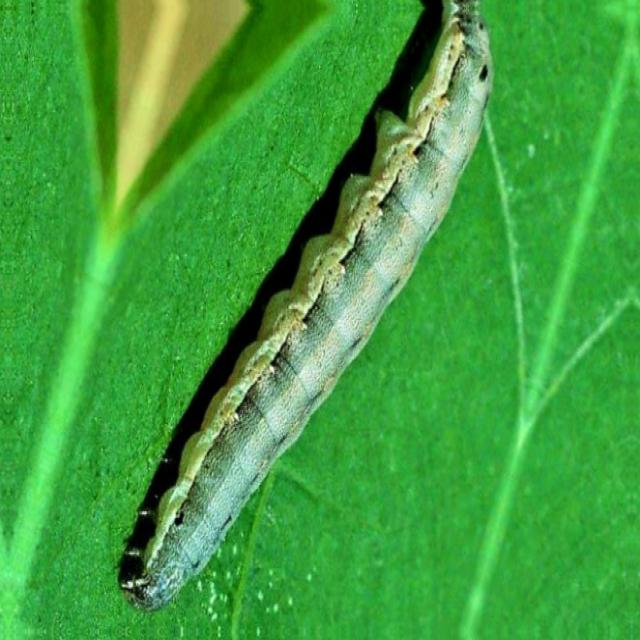Armyworm: (129, 1, 530, 640)
